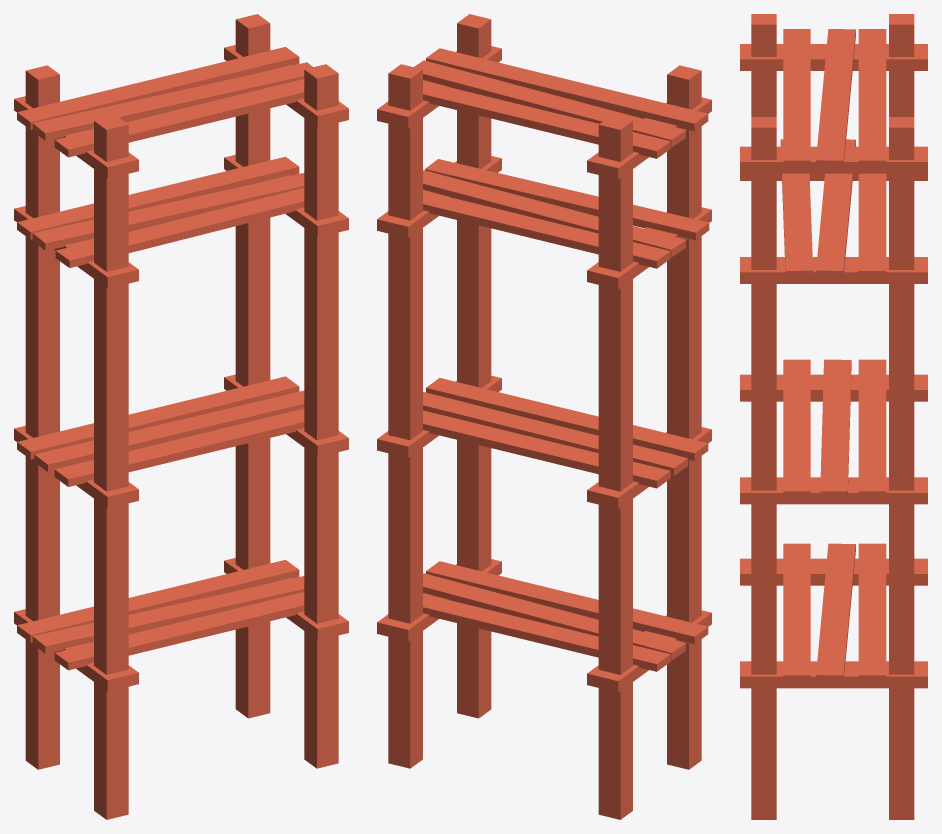
Rendered from estante.obj.
3 renders of one model, left to right at view 1: azimuth 30°, elevation 25°; view 2: azimuth 150°, elevation 25°; view 3: azimuth 270°, elevation 25°, orthographic.
Visible parts, largest first — view 1: Cube.024_Cube.030; view 2: Cube.024_Cube.030; view 3: Cube.024_Cube.030.
Part boxes in pixels (box(x1,y1,x2,y2)): Cube.024_Cube.030: box(14, 14, 348, 819); Cube.024_Cube.030: box(377, 14, 711, 819); Cube.024_Cube.030: box(740, 14, 927, 819).
Bounding box in the file's own units: 2.57 × 6.28 × 1.54.
